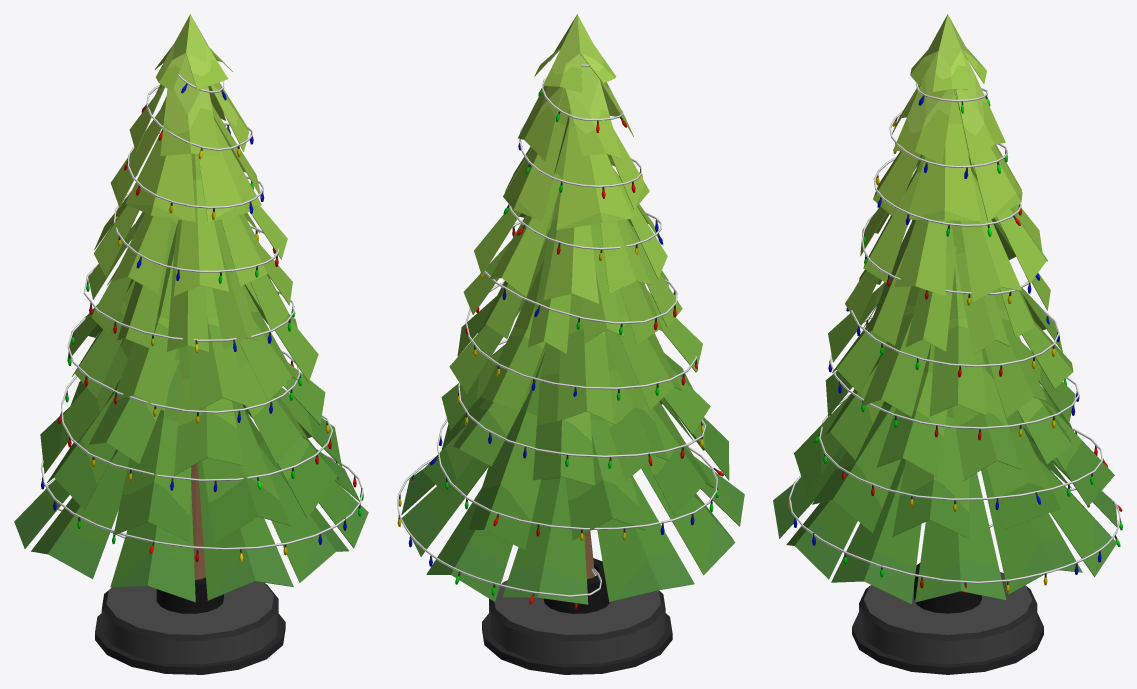
The model's file is Pine.fbx.
3 renders of one model, left to right at view 1: azimuth 30°, elevation 25°; view 2: azimuth 150°, elevation 25°; view 3: azimuth 270°, elevation 25°, orthographic.
Parts seen in each view (by area): view 1: Pine, stand, rope, light, wood; view 2: Pine, stand, rope, light; view 3: Pine, stand, rope, light.
Part boxes in pixels (x1,y1,x2,y2): Pine: (14,14,368,602); stand: (95,577,285,674); rope: (41,74,363,549); light: (41,83,363,562); wood: (191,463,205,579); Pine: (401,14,744,604); stand: (482,558,672,674); rope: (397,64,717,597); light: (397,86,723,609); Pine: (773,14,1117,604); stand: (852,563,1043,674); rope: (789,83,1120,583); light: (788,93,1122,593).
Size of the model in its own units: 403 by 768 by 393.
